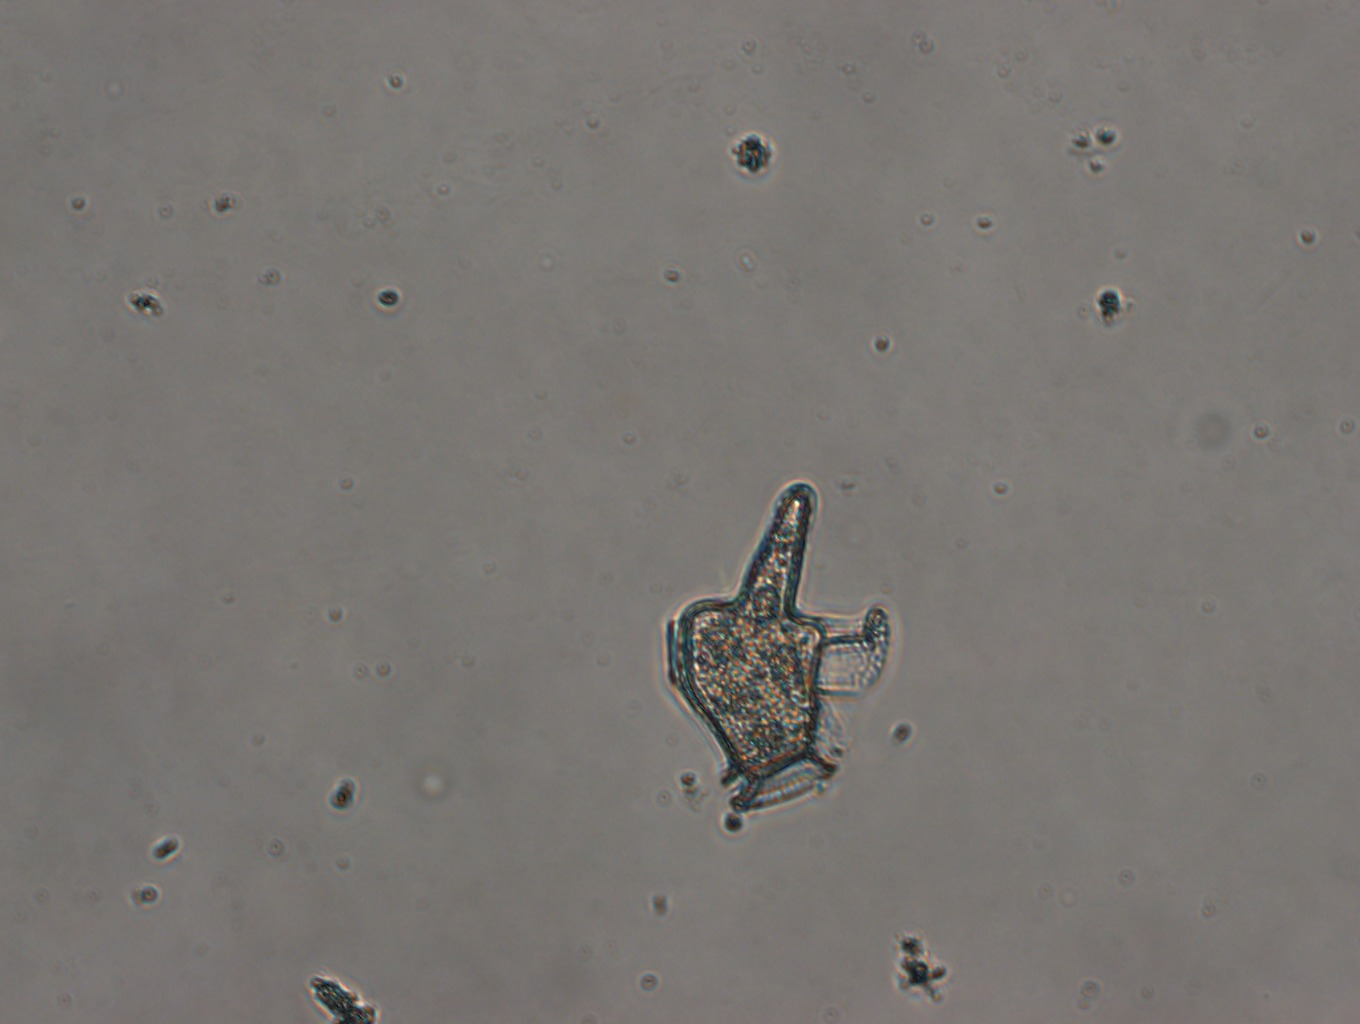dinophysis caudata: (661, 472, 894, 817)
